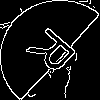R: (25, 25, 86, 83)
